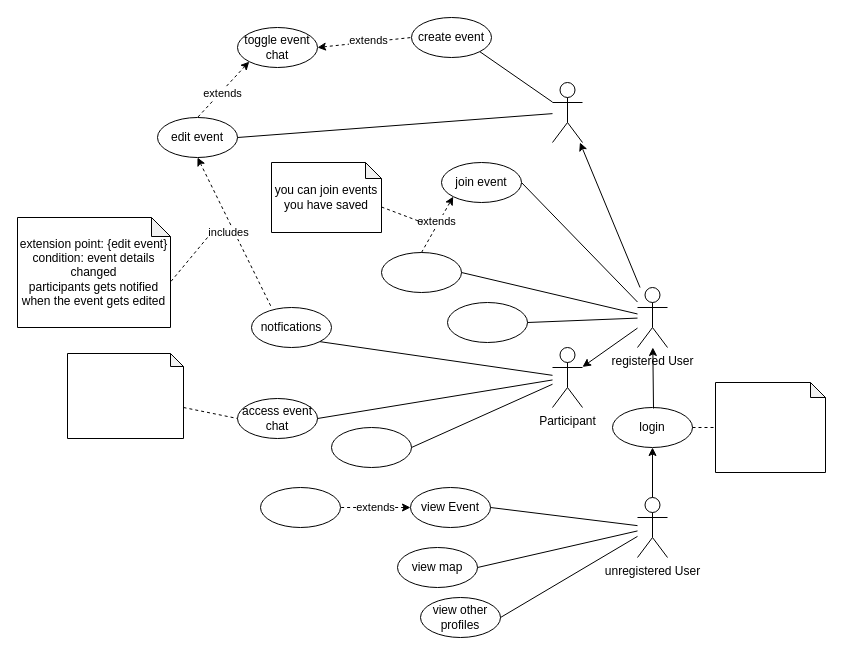
This 843x655 diagram has some shape labels left out. The shapes that lost their labels are listed below. From the top down, each one's centre as x and y in pixels, then its label:
(x=567, y=112): Organizer
(x=421, y=272): save event
(x=487, y=322): manage profile
(x=125, y=395): event chat can only be accessed when enabled by the organizer
(x=371, y=447): leave event
(x=770, y=427): an unregisterd user becomes a registered user by loging in
(x=300, y=507): view event chat
